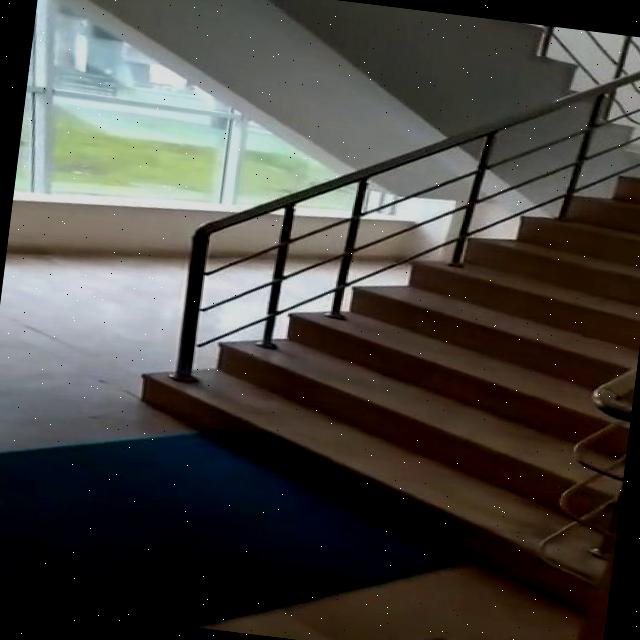stairs: (117, 88, 640, 606)
